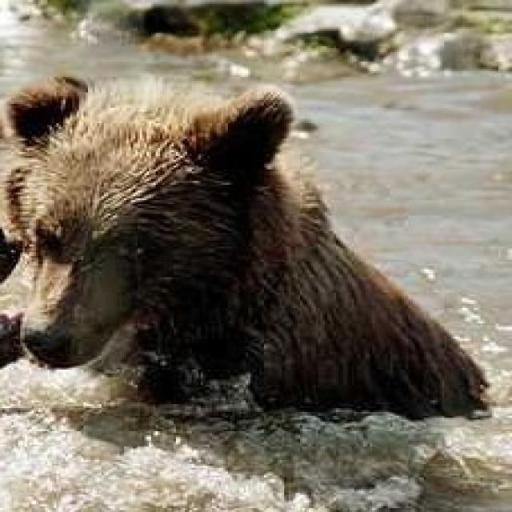Bear: (0, 73, 492, 420)
